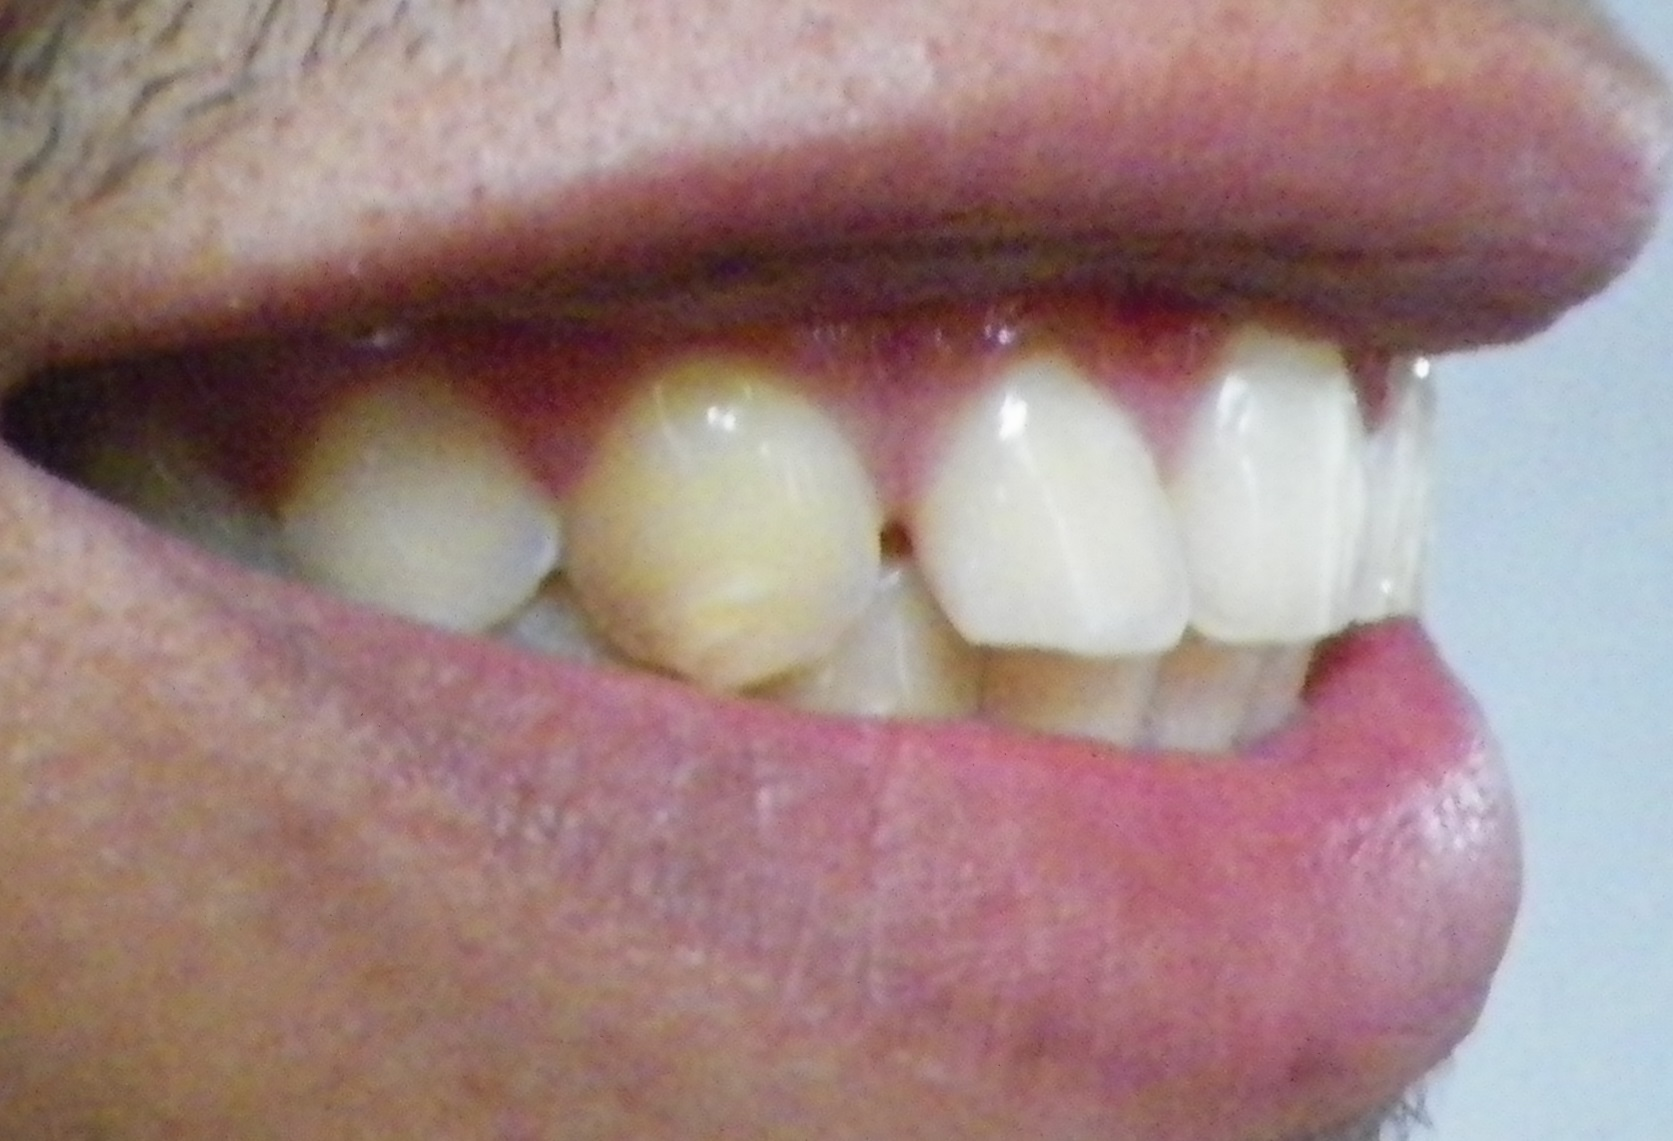boca: (90, 349, 1477, 739)
